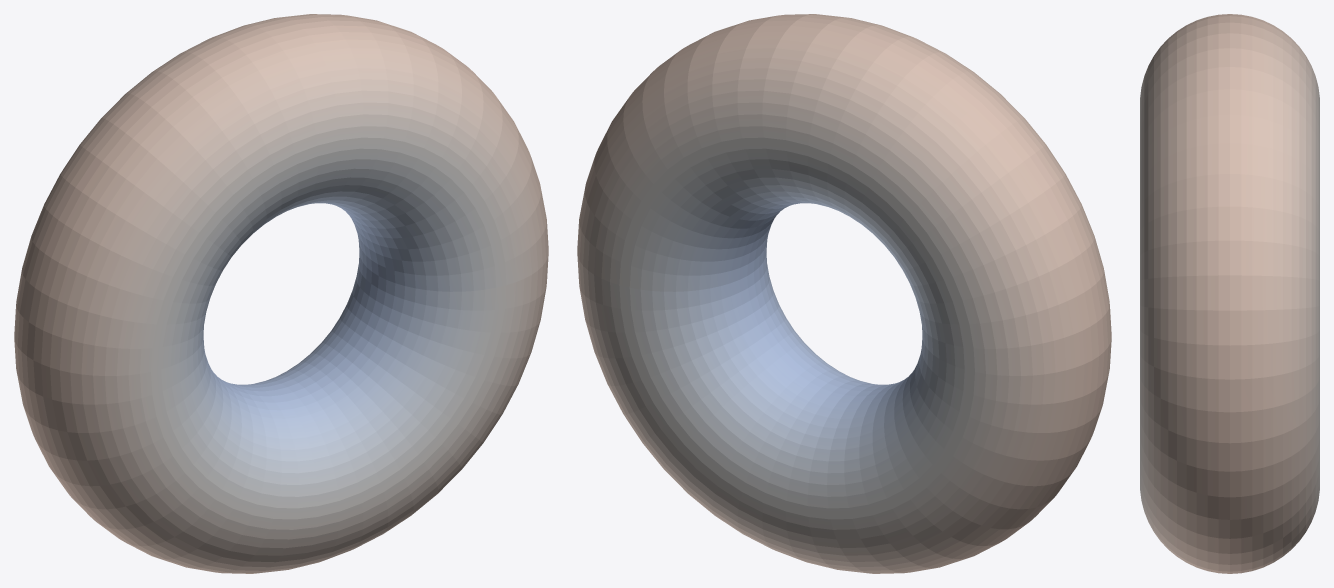
The picture shows the model from 3 angles, left to right: view 1: azimuth 30°, elevation 25°; view 2: azimuth 150°, elevation 25°; view 3: azimuth 270°, elevation 25°; orthographic projection. The views are drawn at different scales.
Visible parts, largest first — view 1: world; view 2: world; view 3: world.
Part boxes in pixels (x1,y1,x2,y2): world: (14, 14, 548, 573); world: (577, 14, 1111, 573); world: (1140, 14, 1319, 573).
Bounding box in the file's own units: 23.6 × 23.55 × 7.59.
